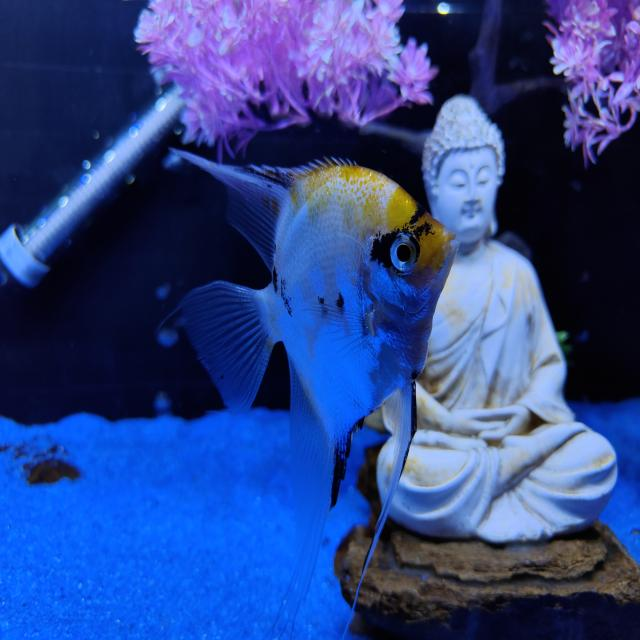Fish: (173, 150, 457, 624)
